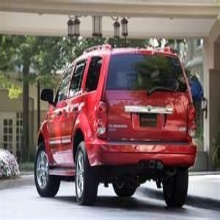no damage: (33, 46, 197, 206)
